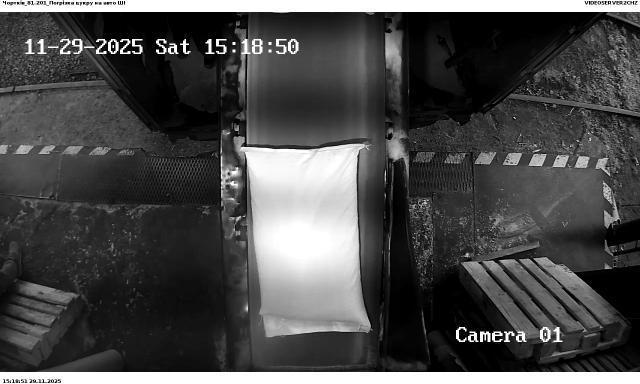bag: (240, 144, 374, 336)
